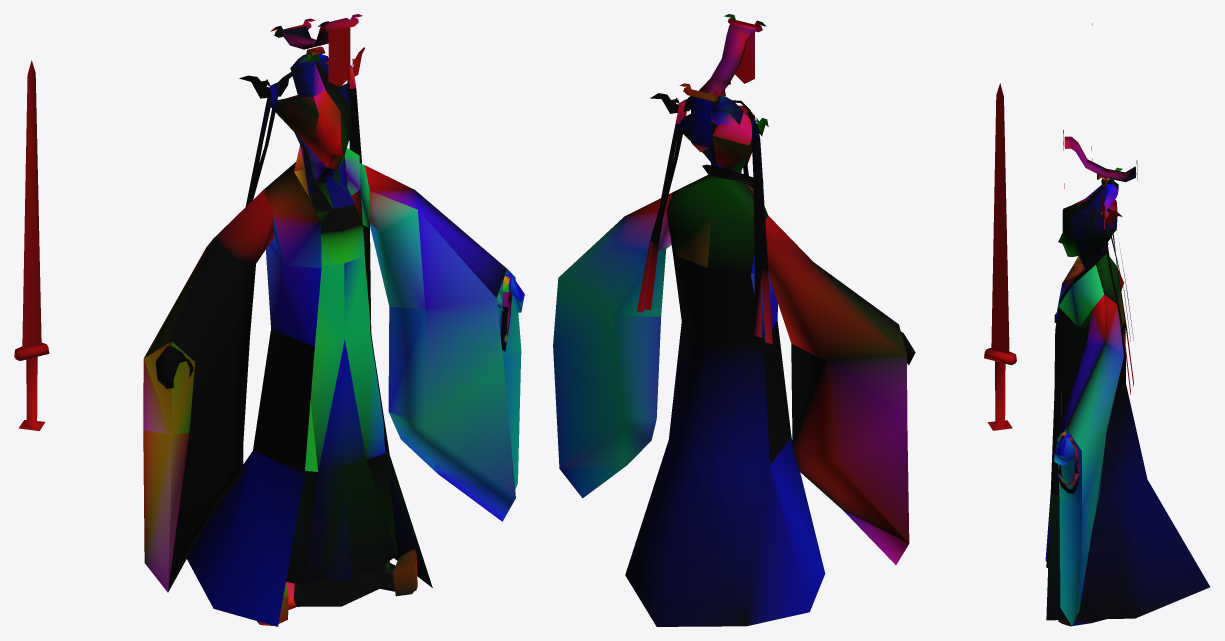
File: role.fbx
3 renders of one model, left to right at view 1: azimuth 30°, elevation 25°; view 2: azimuth 150°, elevation 25°; view 3: azimuth 270°, elevation 25°, orthographic. The views are drawn at different scales.
Visible parts, largest first — view 1: role; view 2: role; view 3: role.
Boxes of the visible parts, <box> form: role: <box>14,14,524,626</box>; role: <box>553,14,1016,626</box>; role: <box>1045,23,1209,626</box>.
Bounding box in the file's own units: 2.11 × 2.46 × 0.7777.
